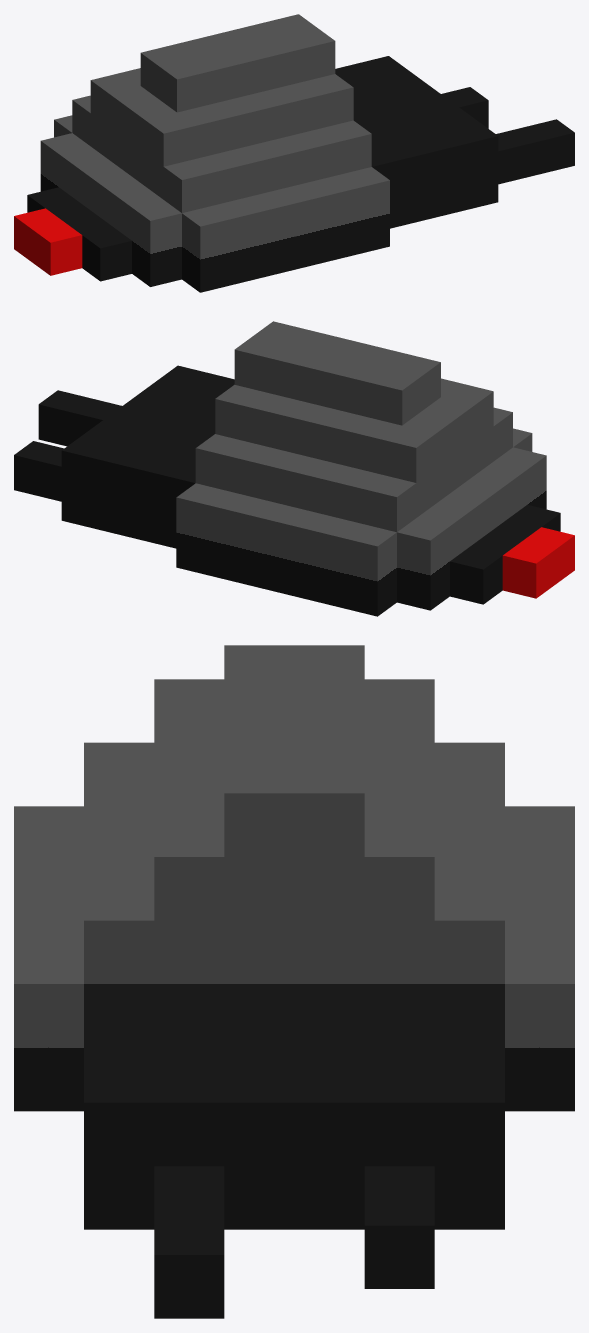
The model's file is Nano1.dae.
The picture shows the model from 3 angles, top to bottom: view 1: azimuth 30°, elevation 25°; view 2: azimuth 150°, elevation 25°; view 3: azimuth 270°, elevation 25°; orthographic projection. The views are drawn at different scales.
Parts seen in each view (by area): view 1: Nano1; view 2: Nano1; view 3: Nano1.
Part boxes in pixels (x1,y1,x2,y2): Nano1: [14, 14, 574, 292]; Nano1: [14, 321, 574, 616]; Nano1: [14, 645, 574, 1318].
Bounding box in the file's own units: 1.6 × 0.8 × 0.5.
Materials: 1 (1 with a texture image).
